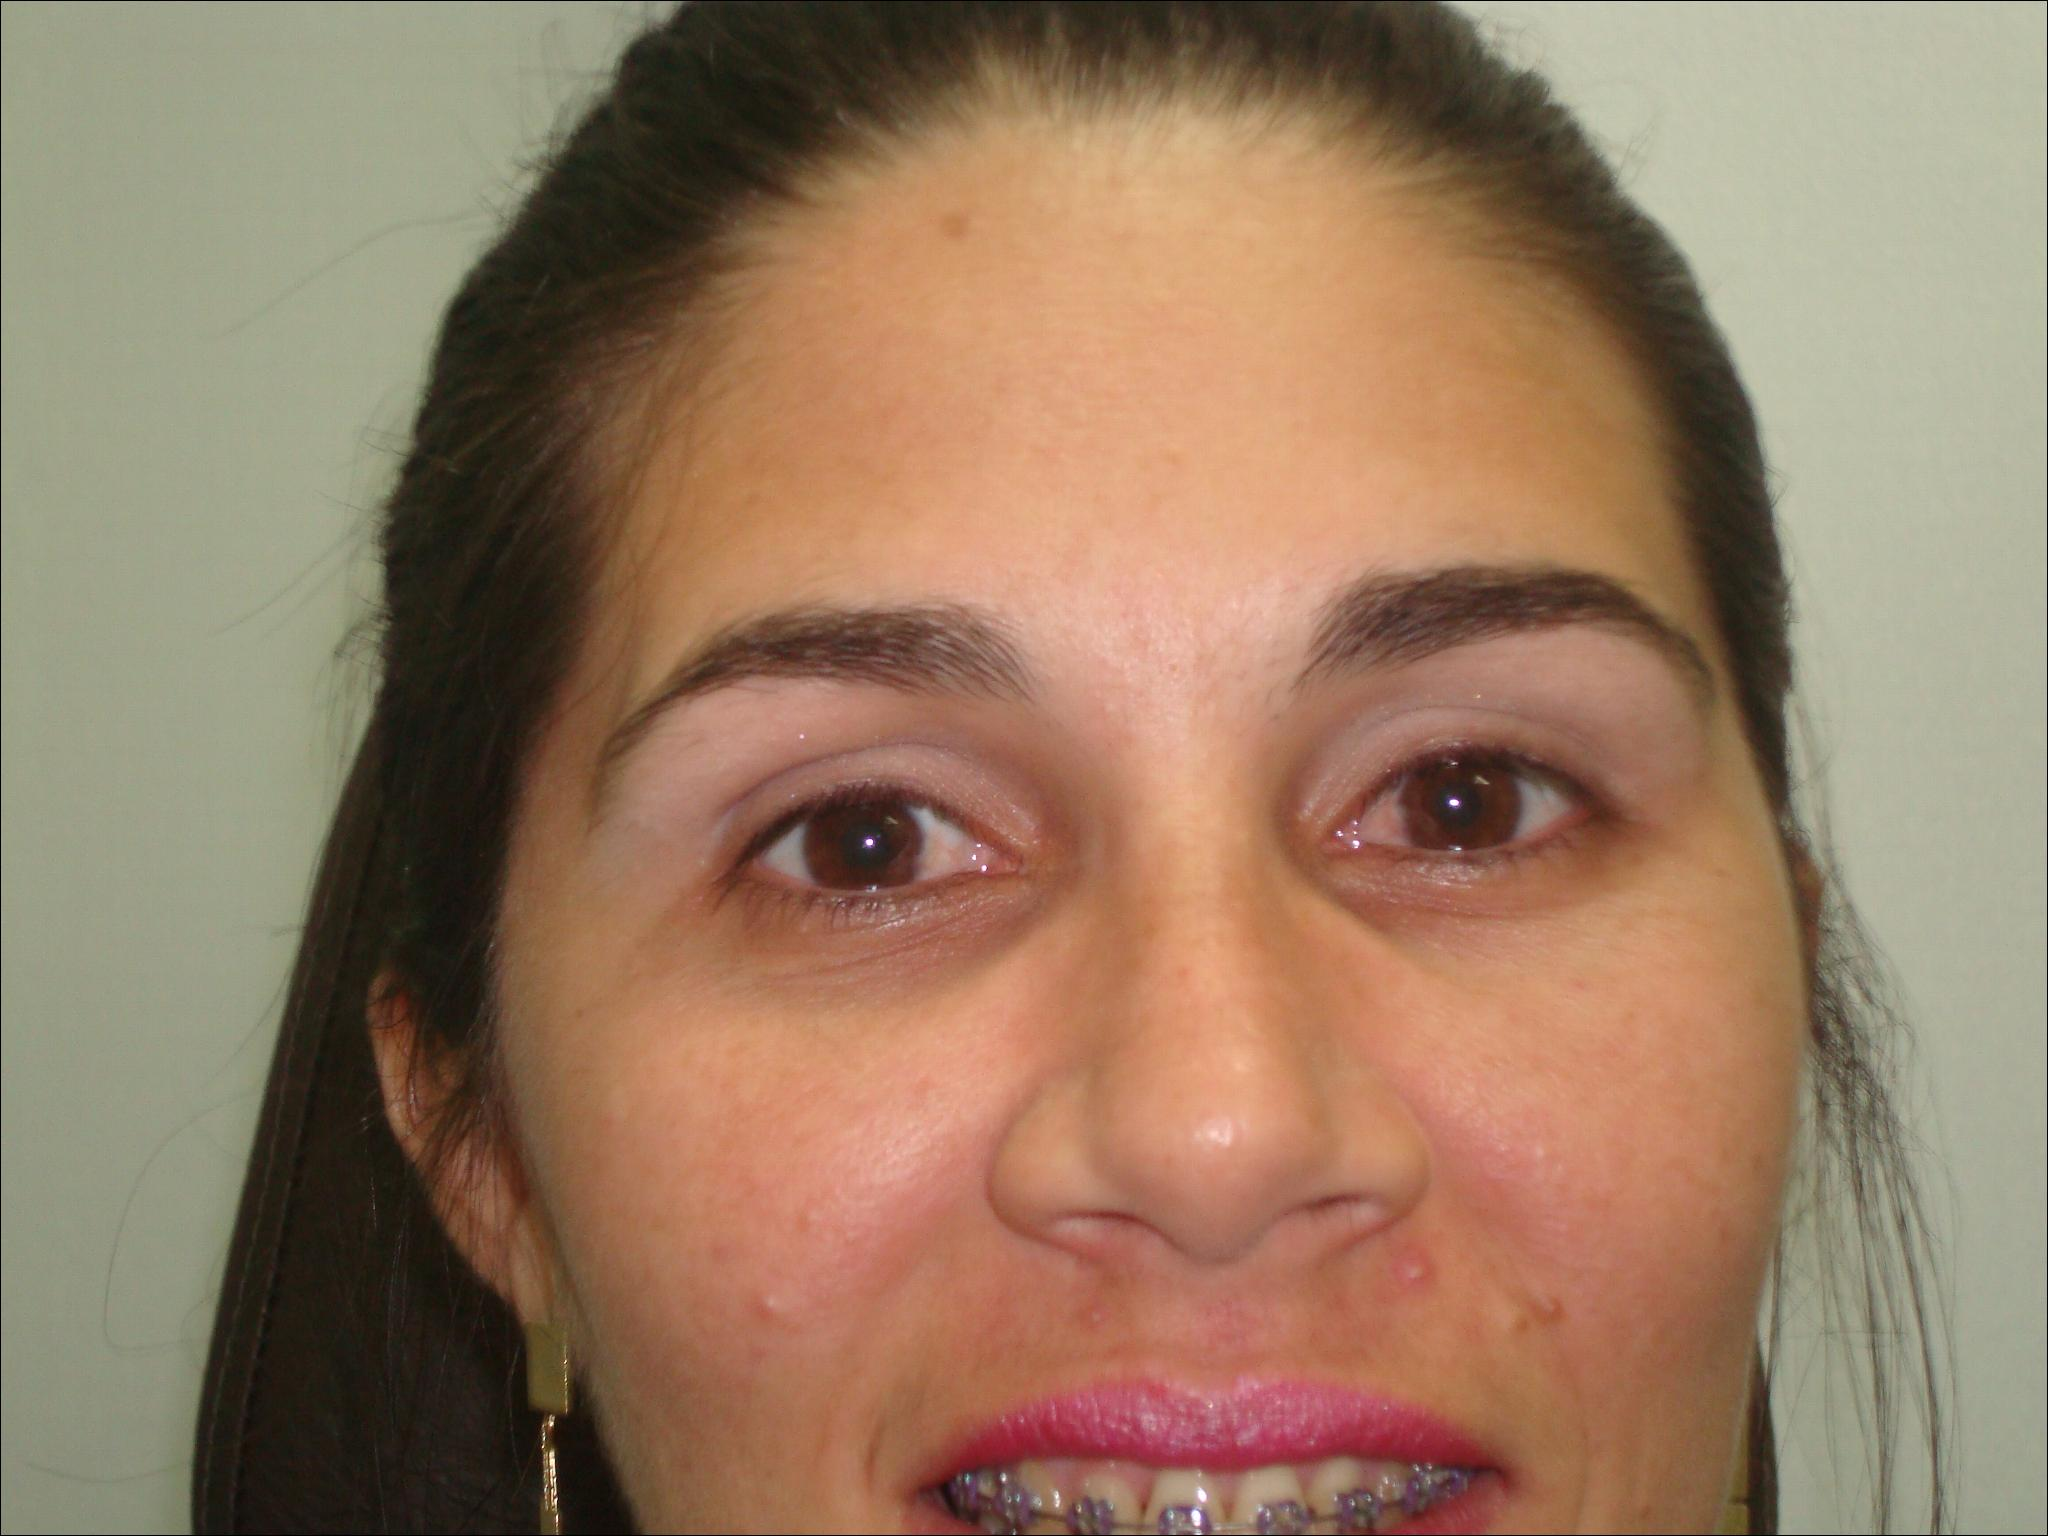flash: (861, 834, 879, 850), (1447, 794, 1463, 812)
limbo: (1397, 749, 1517, 858), (805, 791, 922, 895)
